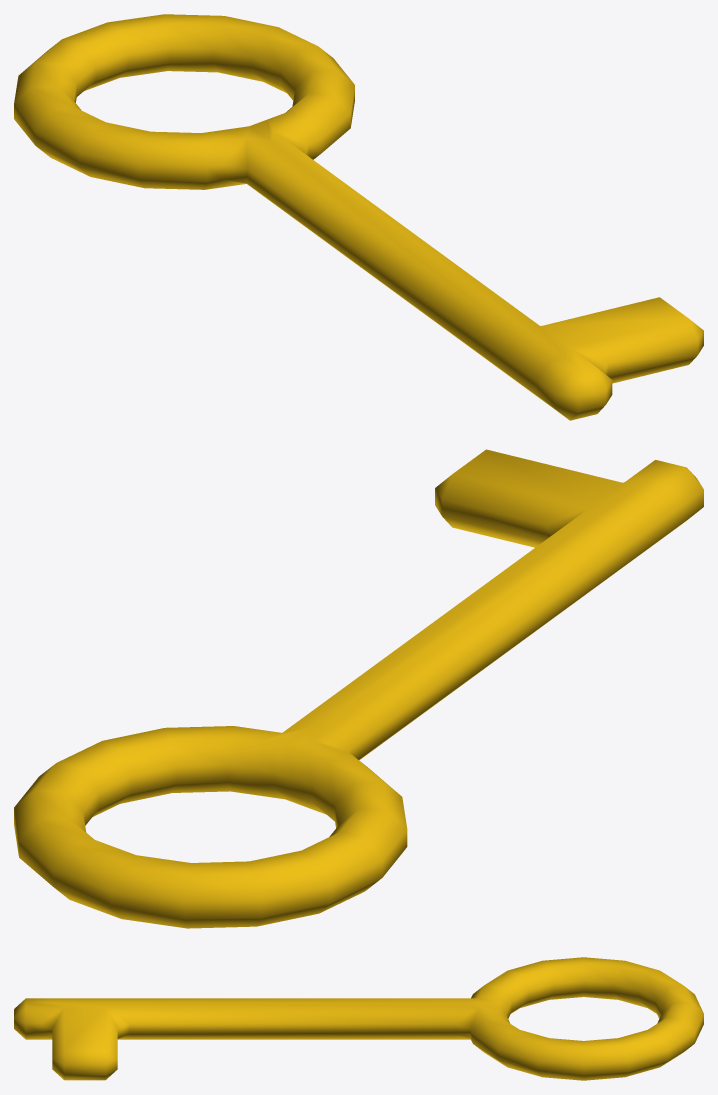
File: anahtar.fbx
3 views of the same model, one above another, from view 1: azimuth 30°, elevation 25°; view 2: azimuth 150°, elevation 25°; view 3: azimuth 270°, elevation 25° (orthographic). The views are drawn at different scales.
Visible parts, largest first — view 1: ANEKTAR; view 2: ANEKTAR; view 3: ANEKTAR.
Boxes of the visible parts, x1,y1,x2,y2 form: ANEKTAR: (14, 14, 703, 420); ANEKTAR: (14, 449, 703, 928); ANEKTAR: (14, 957, 703, 1080).
Bounding box in the file's own units: 361 × 53.44 × 1035.
